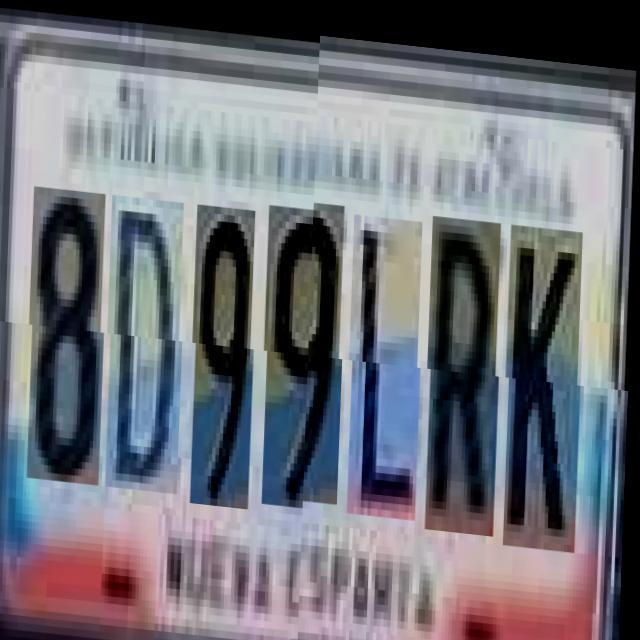8: (30, 186, 110, 483)
9: (265, 198, 349, 504), (193, 200, 260, 503)
D: (109, 193, 189, 490)
K: (507, 220, 588, 546)
L: (350, 214, 428, 518)
R: (428, 214, 506, 532)
